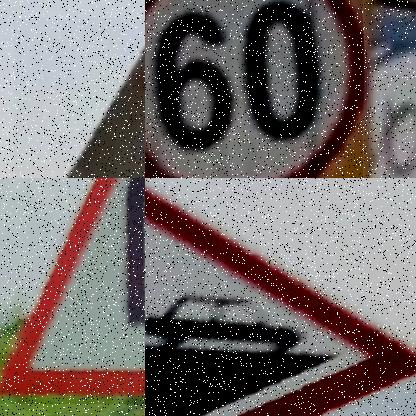Speed Limit -60 kmph-: (145, 0, 370, 178), (145, 0, 362, 178)
Steep Descent: (145, 193, 416, 416)
U-Turn: (0, 178, 145, 401)
